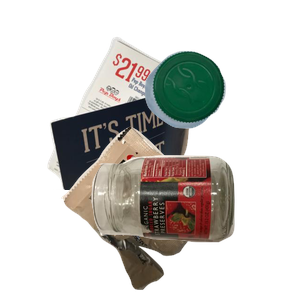glass: (89, 153, 300, 300)
paper: (45, 34, 230, 214)
plastic: (142, 48, 300, 169)
trash: (59, 124, 273, 300)
